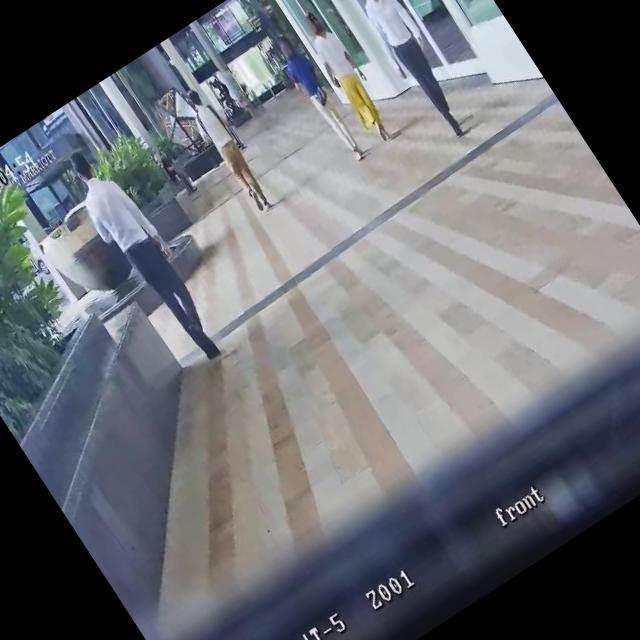person: (52, 136, 234, 374), (337, 0, 482, 145), (292, 3, 403, 150), (268, 29, 372, 168), (180, 81, 278, 215), (153, 141, 202, 200)
